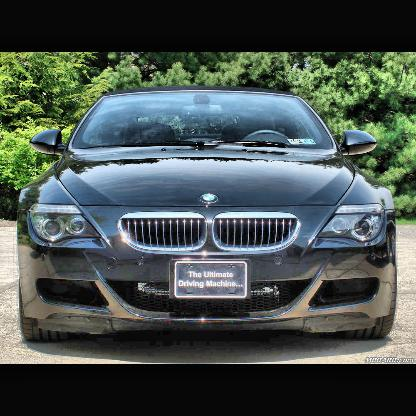BMW M6 Convertible 2010: (17, 88, 399, 344)
